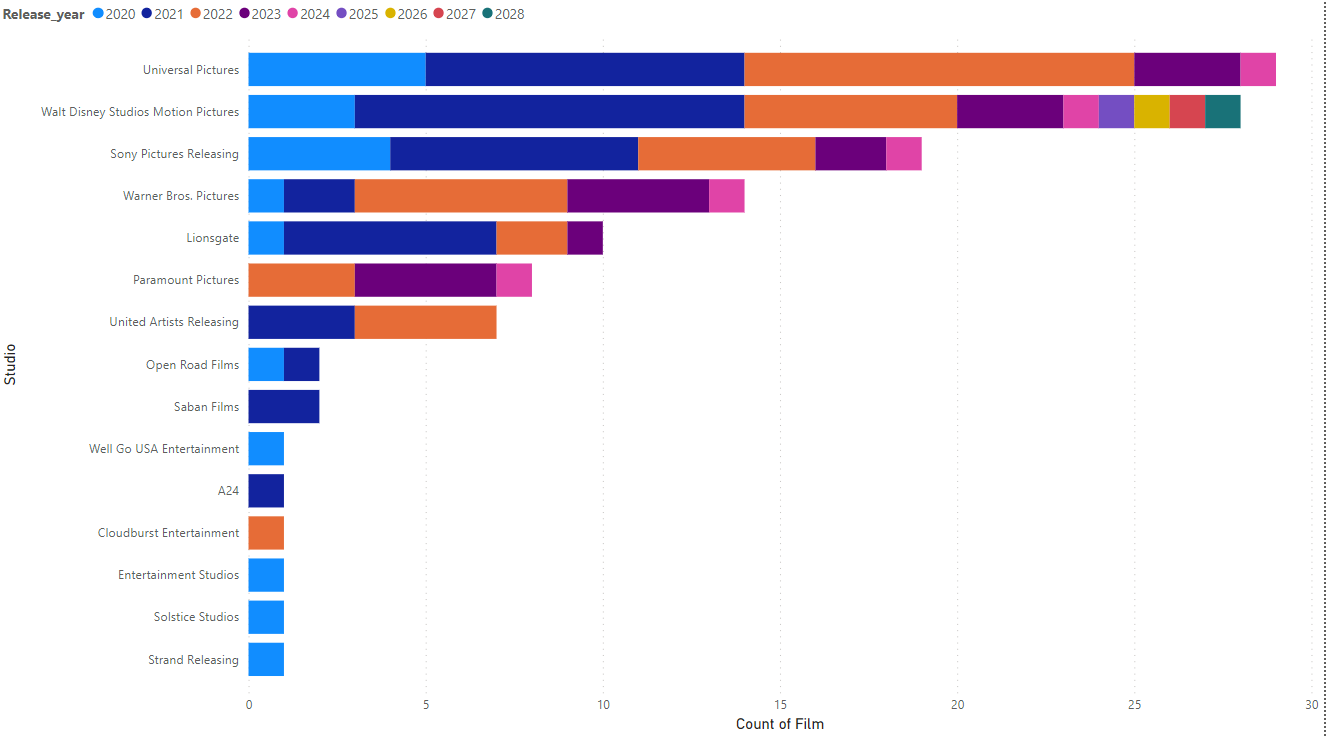

The page's visual inventory and layout, read from the dashboard file:
{"tool":"powerbi","page":{"name":"Cancelled","canvas":[1280,720],"ordinal":5},"visuals":[{"type":"columnChart","fields":{"Category":["Cancelled.Studio"],"Y":["Sum(Cancelled.Release_year)"]},"box":[0,0,981.7,719.1],"z":0}]}

Visuals, with their boxes in screenshot pixels (x1, y1, x2, y2), scaled from the page's 1280x720 canvas onto the 1326x736 screenshot:
columnChart - Cancelled.Studio x Sum(Cancelled.Release_year): rect(0, 0, 1017, 735)
